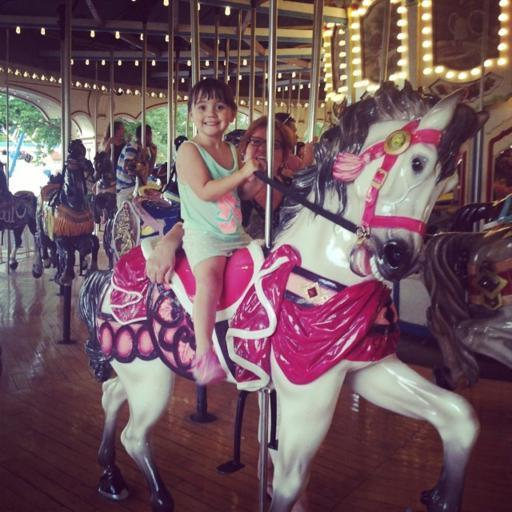horse: (70, 76, 480, 512), (408, 214, 512, 392), (30, 157, 102, 285), (98, 136, 144, 244), (0, 158, 43, 273), (432, 194, 511, 236)
